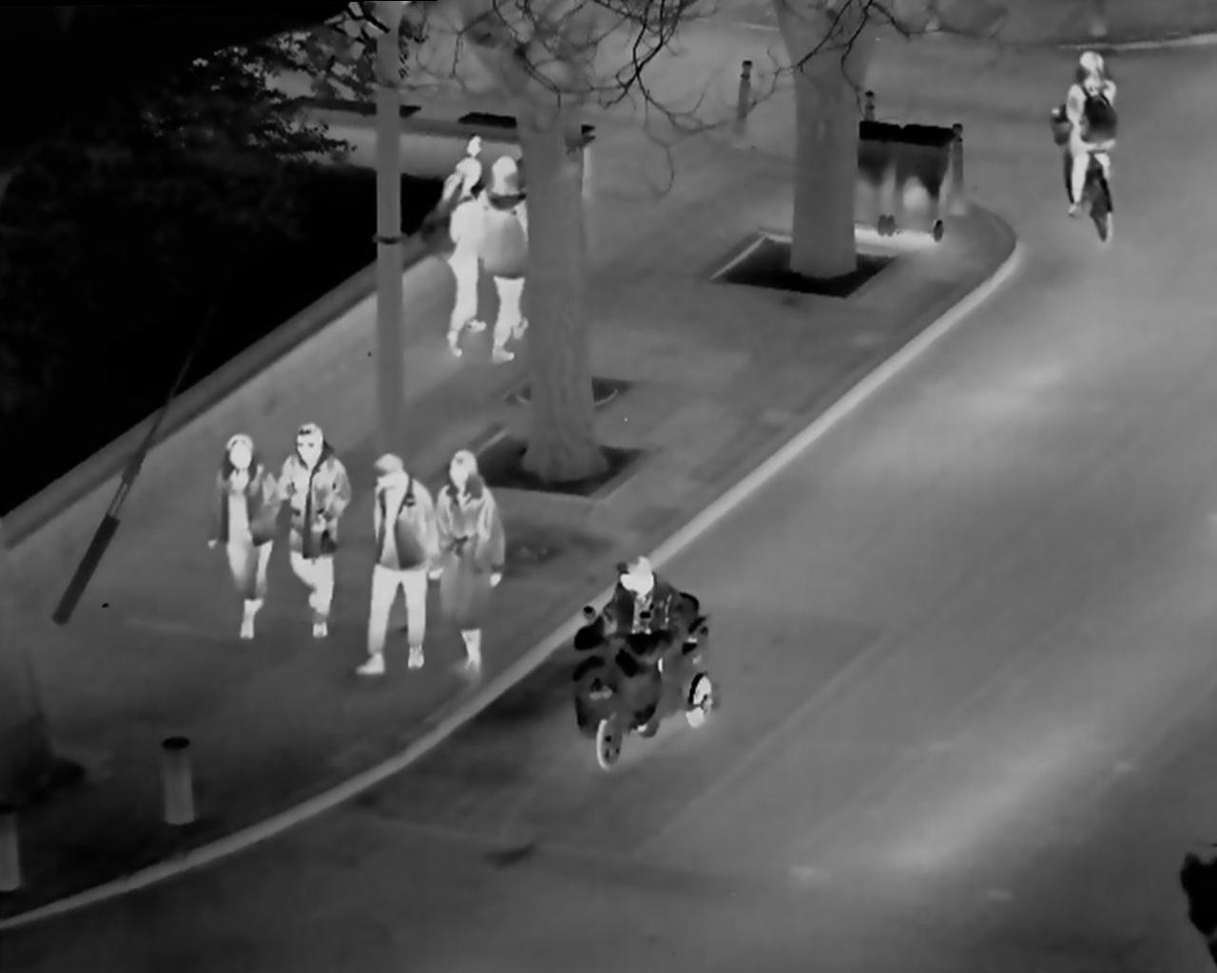person: (573, 534, 713, 760), (1043, 37, 1130, 245), (355, 439, 431, 677), (435, 439, 505, 687), (270, 410, 343, 644), (210, 421, 280, 632), (422, 132, 484, 351), (473, 144, 530, 360)
